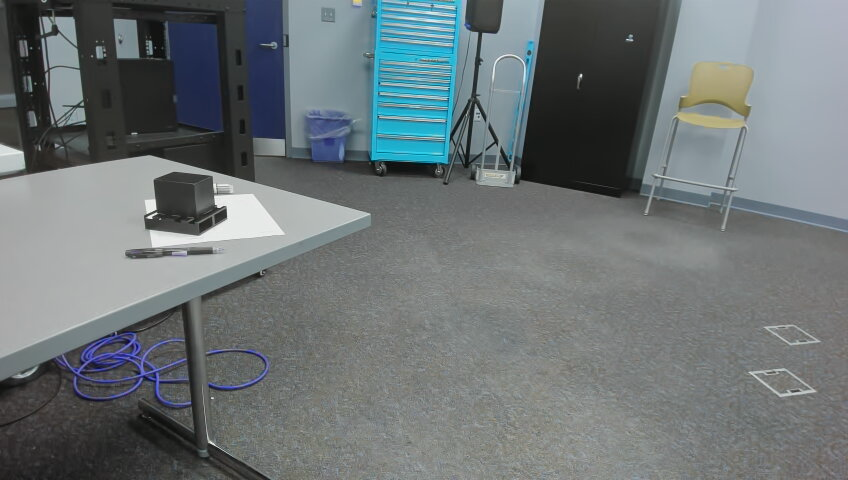black pallet: (143, 171, 230, 238)
